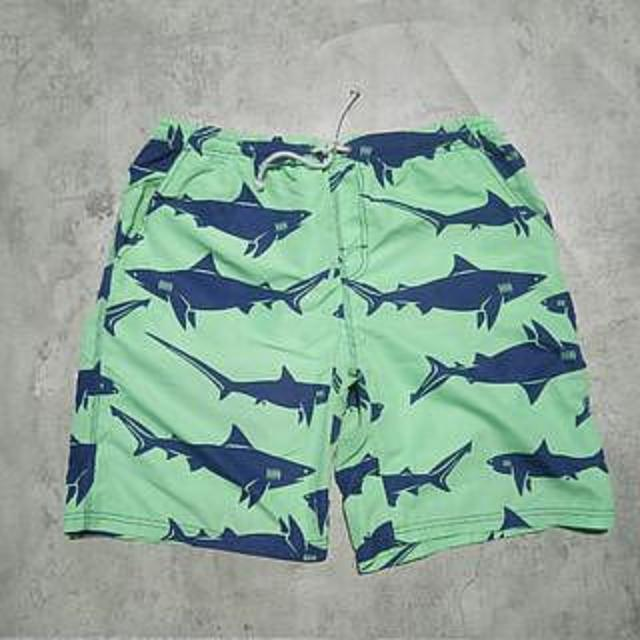SHORT: (50, 102, 634, 577)
